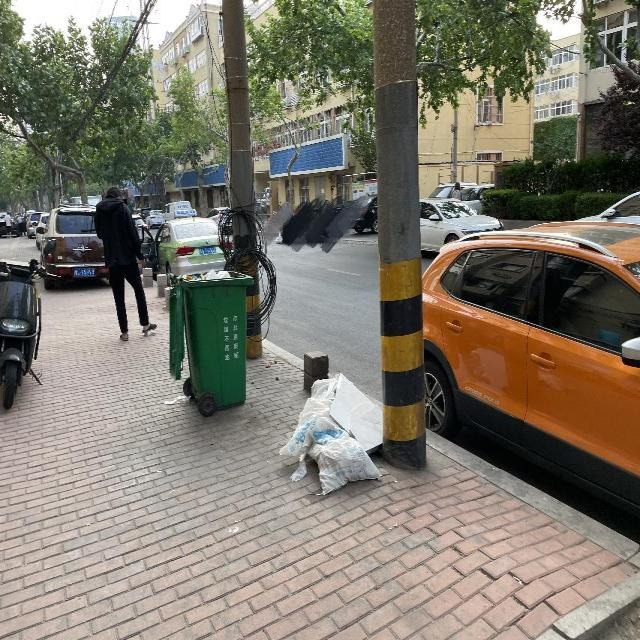garbage: (278, 372, 382, 496)
overflow: (170, 269, 254, 409)
